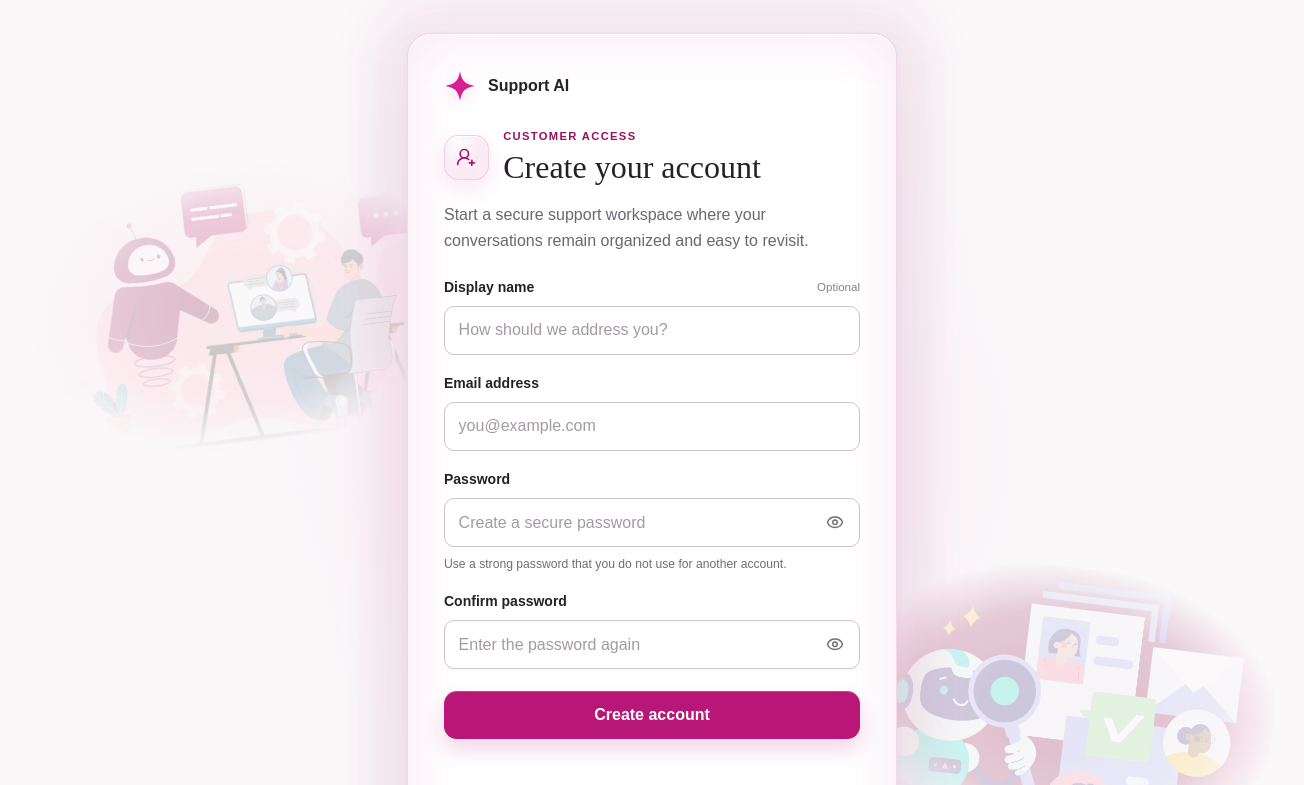
it: registration form › shows a safe network error
Type " Customer Name " into the field labelled "Display name Optional" at coordinates (652, 330), box [444,306,860,355]
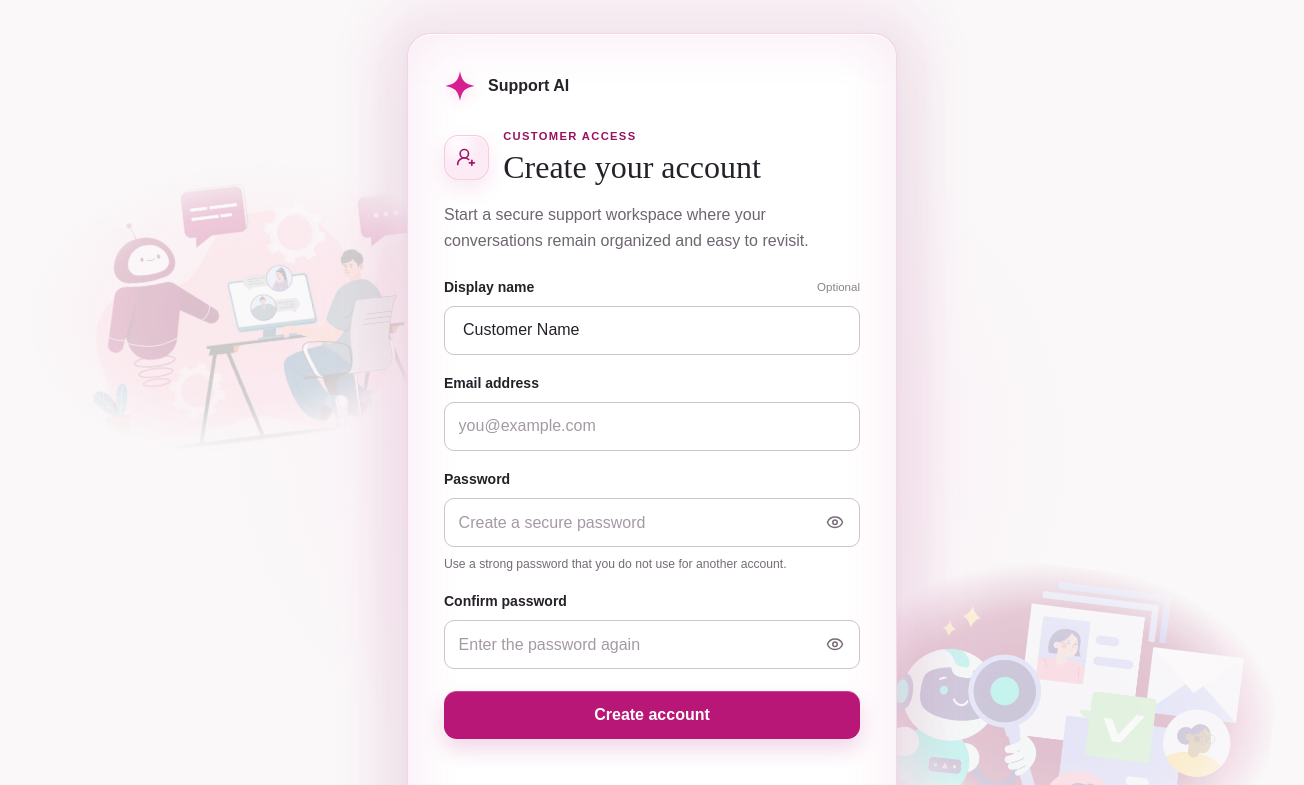
Type " CUSTOMER@example.test " into the field labelled "Email address" at coordinates (652, 426), box [444,402,860,451]
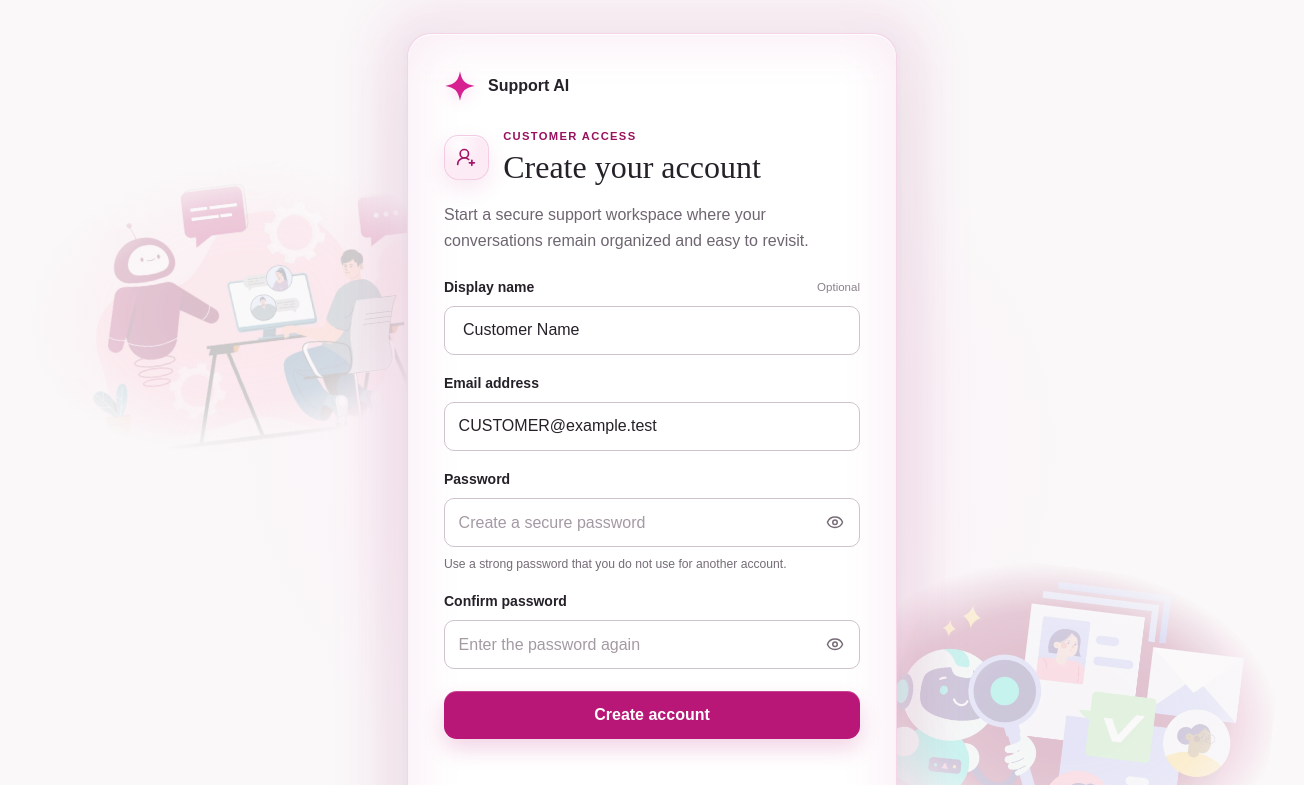
Type "  secure password  " into the password field labelled "Password" at coordinates (652, 522), box [444,498,860,547]
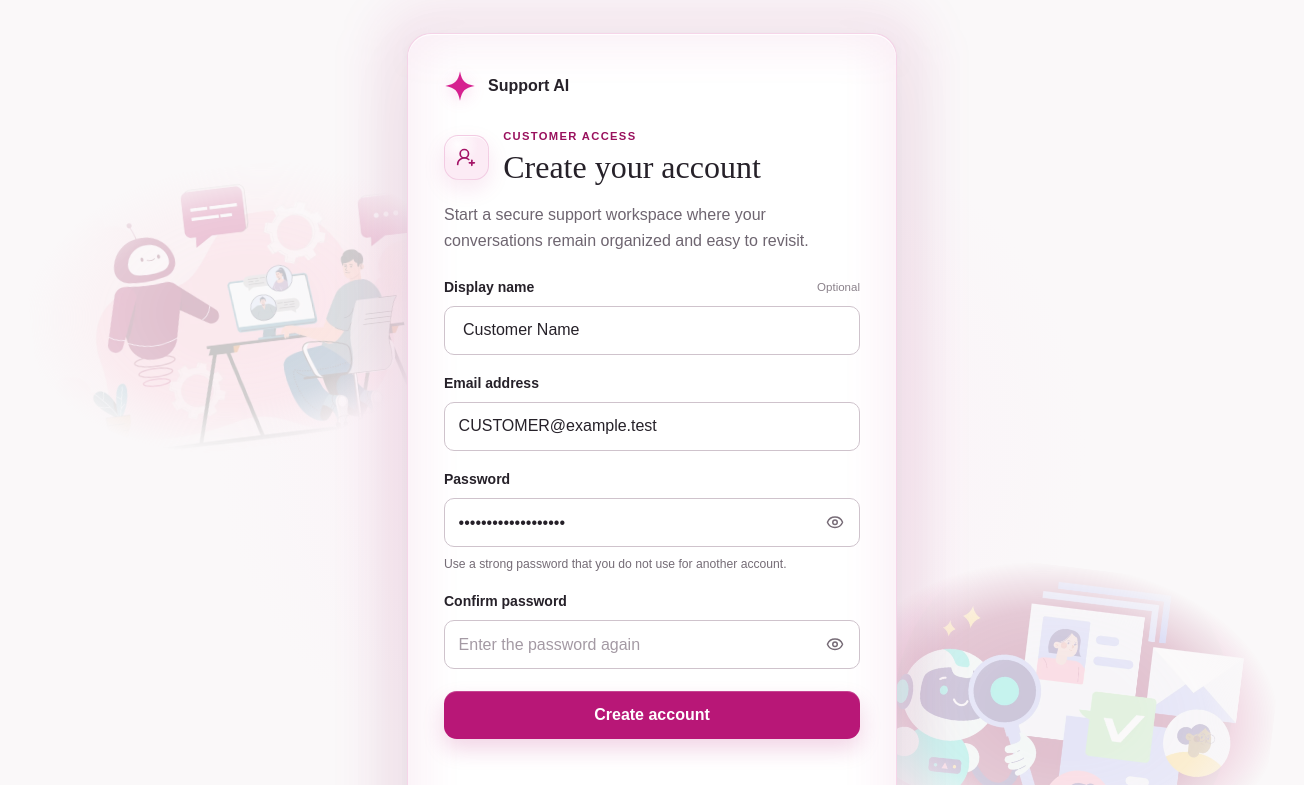
Type "  secure password  " into the password field labelled "Confirm password" at coordinates (652, 644), box [444,620,860,669]
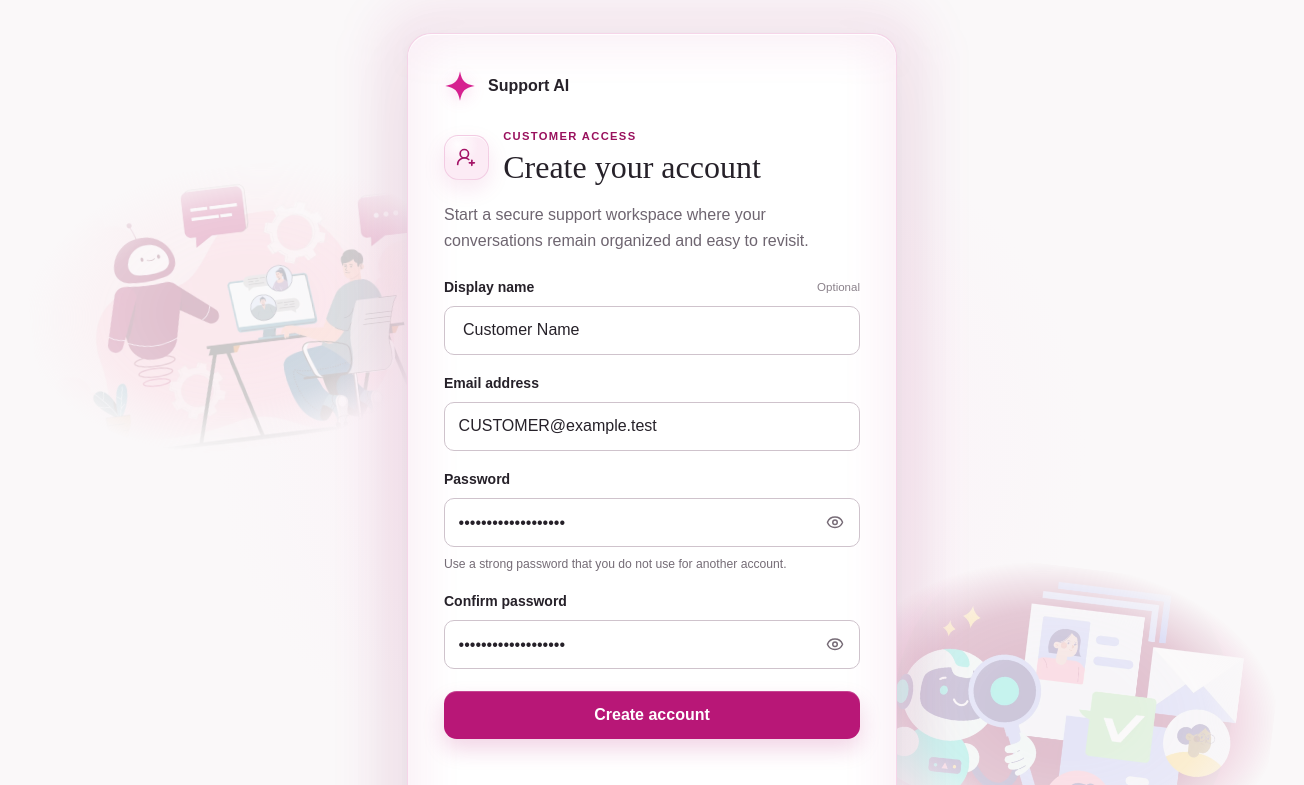
Submit the form named "Create customer account", box [444,277,860,784]
(page scrolled)
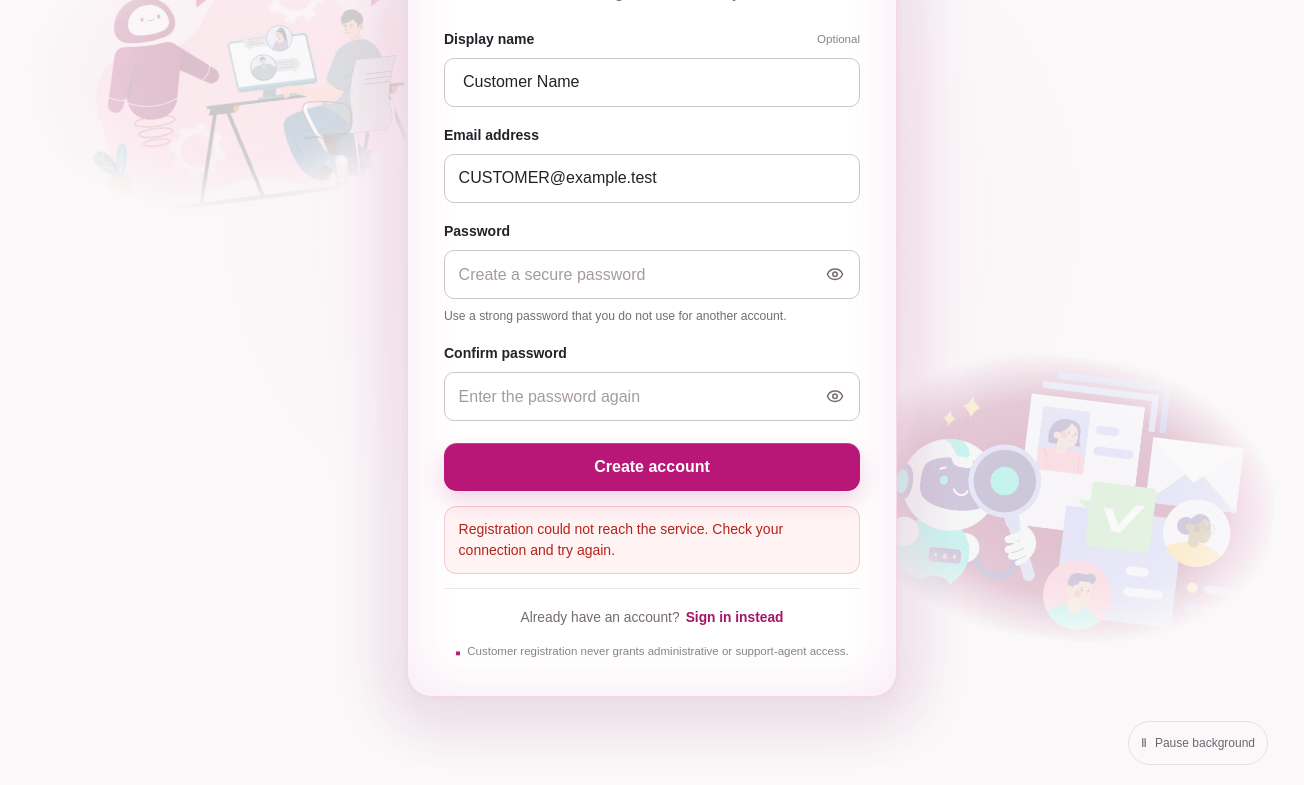
Result: the message shows "Registration could not reach the service." at [459,521,783,558]
